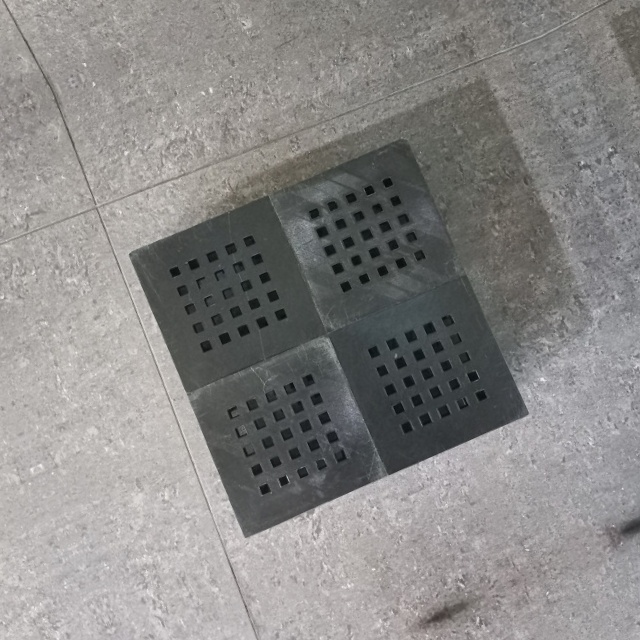pallet: (120, 127, 535, 543)
